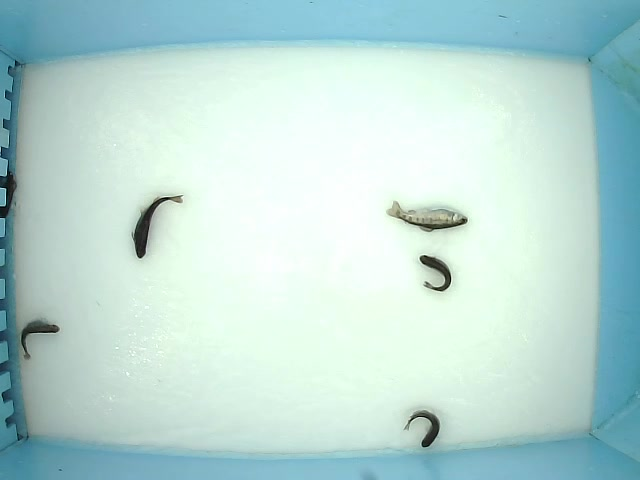fish: (129, 193, 185, 261), (383, 199, 468, 233), (19, 318, 61, 362), (403, 408, 441, 449), (418, 254, 452, 293)
